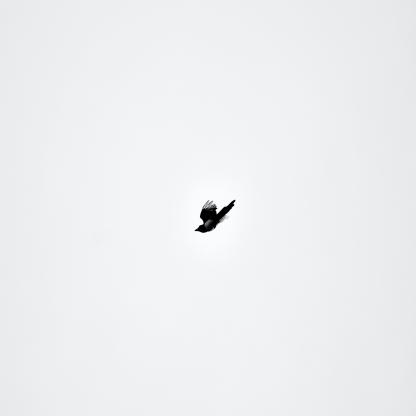bird: (195, 199, 235, 233)
